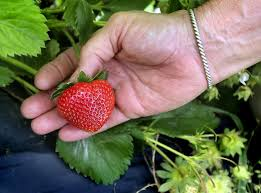ripe: (52, 78, 120, 134)
